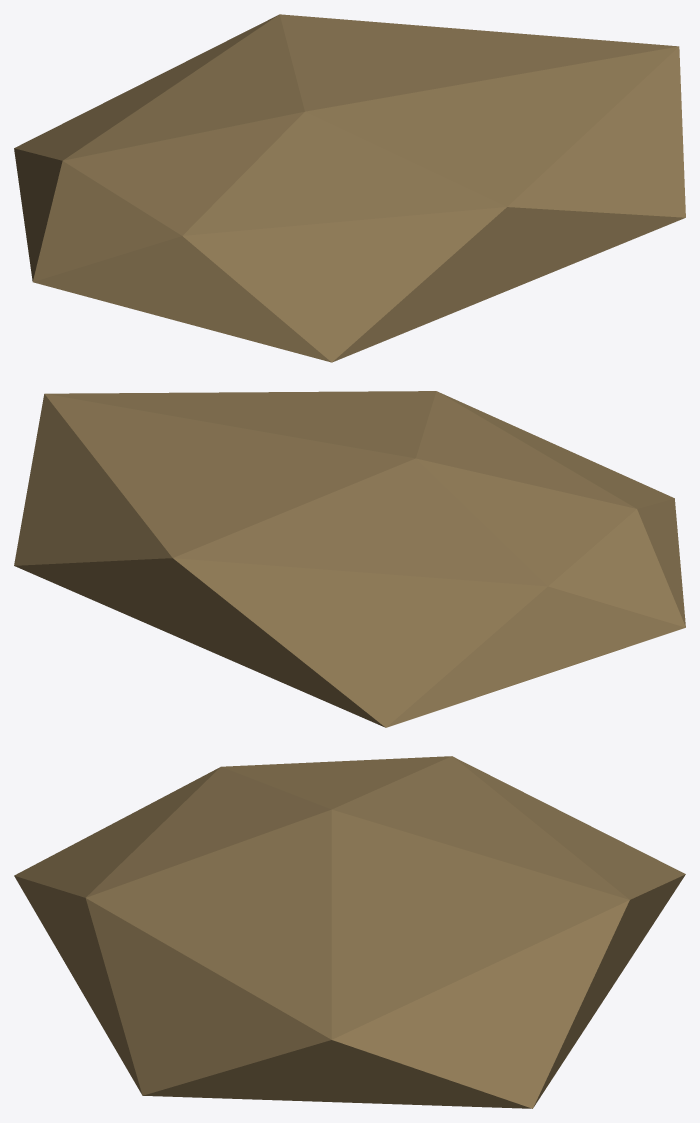
File: fishing_net.fbx
The picture shows the model from 3 angles, top to bottom: view 1: azimuth 30°, elevation 25°; view 2: azimuth 150°, elevation 25°; view 3: azimuth 270°, elevation 25°; orthographic projection. The views are drawn at different scales.
Parts seen in each view (by area): view 1: fishing_net; view 2: fishing_net; view 3: fishing_net.
Part boxes in pixels (box(x1,y1,x2,y2)): fishing_net: box(14, 14, 685, 362); fishing_net: box(14, 391, 685, 727); fishing_net: box(14, 756, 685, 1108).
Bounding box in the file's own units: 471 × 111 × 384.
